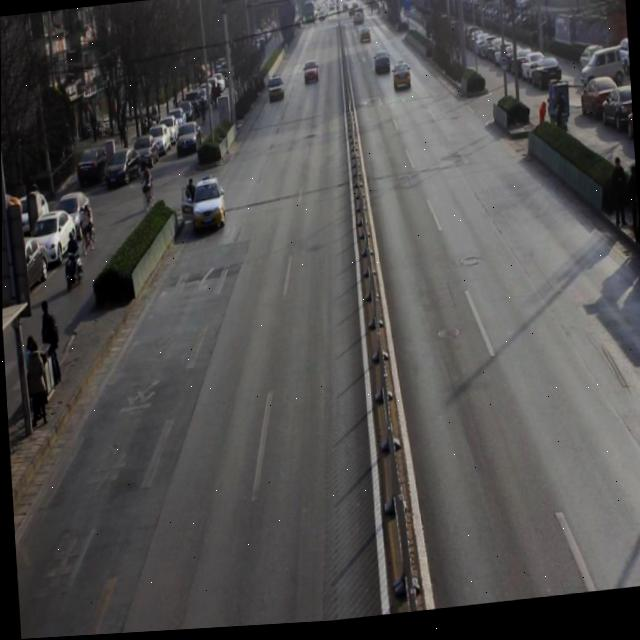car: (187, 175, 230, 237), (390, 61, 412, 101), (371, 49, 393, 86), (264, 75, 287, 109), (301, 59, 321, 90)
